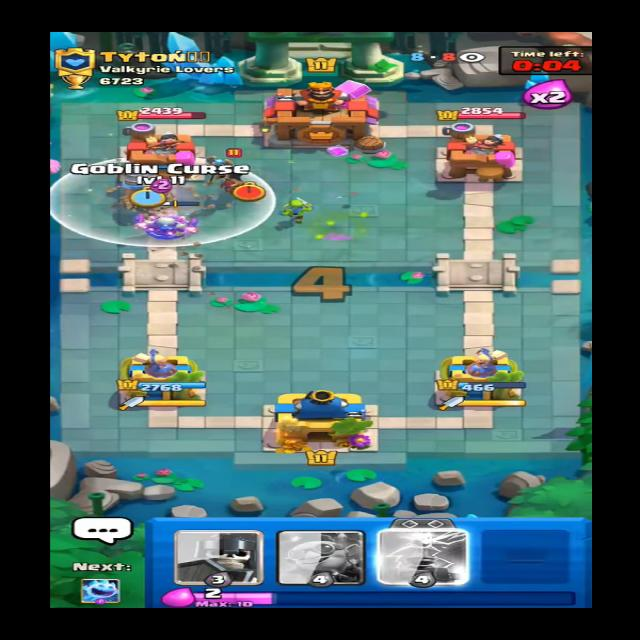night-witch: (210, 146, 262, 197)
